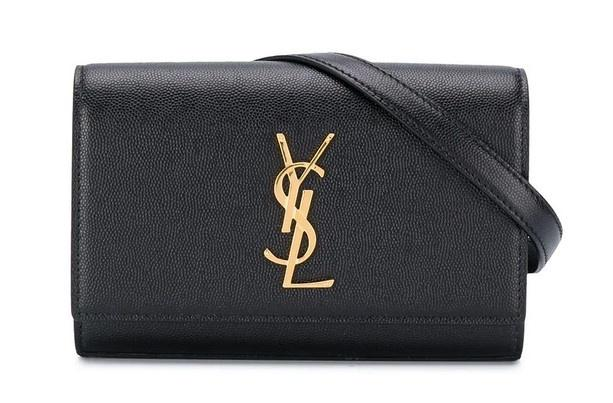YVES-SAINT-LAURENT: (263, 133, 335, 288)
